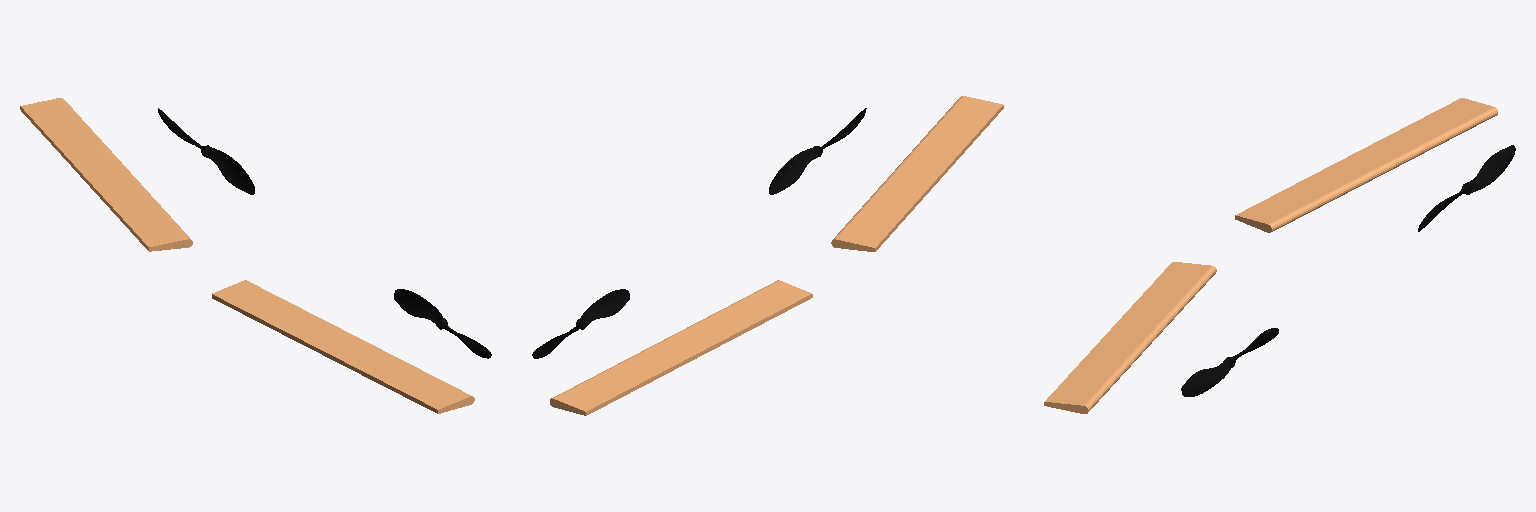
URDF robot description (DeltaWing):
<?xml version="1.0" encoding="utf-8"?>
<!-- This URDF was automatically created by SolidWorks to URDF Exporter! Originally created by [author] ([email redacted]) 
     Commit Version: 1.6.0-4-g7f85cfe  Build Version: 1.6.7995.38578
     For more information, please see http://wiki.ros.org/sw_urdf_exporter -->
     <!-- Additional modifications by [author] [author] -->
<robot
  name="DeltaWing">

  <material name="Brown">
     <color rgba="0.33 0.21 0.04 1"/>
  </material>

  <material name="Grey">
    <color rgba=".3 .3 .3 1"/>
   </material>

  <link
    name="base_link">
    <inertial>
      <origin
        xyz="-0.0952036209787758 7.78125513600558E-11 0.00197473007512181"
        rpy="0 0 0" />
      <mass
        value="0.296981329335048" />
      <inertia
        ixx="0.00806559842793603"
        ixy="-9.41934501552741E-14"
        ixz="5.49054252463097E-10"
        iyy="0.00147659261617276"
        iyz="-2.12387797879751E-09"
        izz="0.00928812511950579" />
    </inertial>
    <visual>
      <origin
        xyz="0 0 0"
        rpy="0 0 0" />
      <geometry>
        <mesh
          filename="package://DeltaWingModel/meshes/base_link.obj" />
      </geometry>
      <material
        name="Grey">
        <!-- <color
          rgba="0.968627450980392 0.87843137254902 0.6 1" /> -->
      </material>
    </visual>
    <collision>
      <origin
        xyz="0 0 0"
        rpy="0 0 0" />
      <geometry>
        <mesh
          filename="package://DeltaWingModel/meshes/base_link.obj" />
      </geometry>
    </collision>
  </link>
  <link
    name="right_motor">
    <inertial>
      <origin
        xyz="-1.0218294876907E-08 -6.00144618685593E-09 0.00181141041634729"
        rpy="0 0 0" />
      <mass
        value="0.00359973592304301" />
      <inertia
        ixx="9.02360838417436E-08"
        ixy="1.17837997236154E-07"
        ixz="-1.90562919430233E-14"
        iyy="9.42212831802528E-06"
        iyz="-1.21143734797756E-13"
        izz="9.47988709060552E-06" />
    </inertial>
    <visual>
      <origin
        xyz="0 0 0"
        rpy="0 0 0" />
      <geometry>
        <mesh
          filename="package://DeltaWingModel/meshes/right_motor.obj" />
      </geometry>
      <material
        name="">
        <color
          rgba="0.0980392156862745 0.0980392156862745 0.0980392156862745 1" />
      </material>
    </visual>
    <collision>
      <origin
        xyz="0 0 0"
        rpy="0 0 0" />
      <geometry>
        <mesh
          filename="package://DeltaWingModel/meshes/right_motor.obj" />
      </geometry>
    </collision>
  </link>
  <joint
    name="right_motor_joint"
    type="revolute">
    <origin
      xyz="-0.013011 0.25 0"
      rpy="1.5708 0 1.5708" />
    <parent
      link="base_link" />
    <child
      link="right_motor" />
    <axis
      xyz="0 0 1" />
    <!-- <limit
      lower="0"
      upper="0"
      effort="0"
      velocity="0" /> -->
  </joint>
  <link
    name="left_motor">
    <inertial>
      <origin
        xyz="-4.73083400231999E-09 -1.5982328578194E-08 0.00181295979349896"
        rpy="0 0 0" />
      <mass
        value="0.0035962732627869" />
      <inertia
        ixx="9.01777971251138E-08"
        ixy="-1.17015369968996E-07"
        ixz="4.72219526573555E-14"
        iyy="9.40216890545166E-06"
        iyz="-8.94212671917933E-14"
        izz="9.45986253030714E-06" />
    </inertial>
    <visual>
      <origin
        xyz="0 0 0"
        rpy="0 0 0" />
      <geometry>
        <mesh
          filename="package://DeltaWingModel/meshes/left_motor.obj" />
      </geometry>
      <material
        name="">
        <color
          rgba="0.0980392156862745 0.0980392156862745 0.0980392156862745 1" />
      </material>
    </visual>
    <collision>
      <origin
        xyz="0 0 0"
        rpy="0 0 0" />
      <geometry>
        <mesh
          filename="package://DeltaWingModel/meshes/left_motor.obj" />
      </geometry>
    </collision>
  </link>
  <joint
    name="left_motor_joint"
    type="revolute">
    <origin
      xyz="-0.013 -0.25 0"
      rpy="1.5708 0 1.5708" />
    <parent
      link="base_link" />
    <child
      link="left_motor" />
    <axis
      xyz="0 0 1" />
    <!-- <limit
      lower="0"
      upper="0"
      effort="0"
      velocity="0" /> -->
  </joint>
  <link
    name="right_elevon">
    <inertial>
      <origin
        xyz="-0.0206295101987303 0.180271196118253 0.00114188761501559"
        rpy="0 -.06 0" />
      <mass
        value="0.00429914039301486" />
      <inertia
        ixx="5.174539257616E-05"
        ixy="8.39192922141699E-07"
        ixz="5.15080918137687E-08"
        iyy="8.59467191797982E-07"
        iyz="8.49222569650825E-10"
        izz="5.2552381577933E-05" />
    </inertial>
    <visual>
      <origin
        xyz="0 0 0"
        rpy="0 -.06 0" />
      <geometry>
        <mesh
          filename="package://DeltaWingModel/meshes/right_elevon.obj" />
      </geometry>
      <material
        name="">
        <color
          rgba="0.988235294117647 0.737254901960784 0.517647058823529 1" />
      </material>
    </visual>
    <collision>
      <origin
        xyz="0 0 0"
        rpy="0 -.06 0" />
      <geometry>
        <mesh
          filename="package://DeltaWingModel/meshes/right_elevon.obj" />
      </geometry>
    </collision>
  </link>
  <joint
    name="right_elevon_joint"
    type="revolute">
    <origin
      xyz="-0.14351 0.068516 0"
      rpy="0 0 -0.17453" />
    <parent
      link="base_link" />
    <child
      link="right_elevon" />
    <axis
      xyz="0.016485 -0.99986 0" />
    <limit
      lower="-1.571"
      upper="1.571"
      effort="0"
      velocity="0" />
  </joint>
  <link
    name="left_elevon">
    <inertial>
      <origin
        xyz="-0.0196636403404296 -0.175581705344098 -0.00564668601966695"
        rpy="0 .32 0" />
      <mass
        value="0.00429914039301486" />
      <inertia
        ixx="5.18235158616008E-05"
        ixy="-8.40480953883799E-07"
        ixz="-2.41892335100736E-07"
        iyy="8.59488427793871E-07"
        iyz="3.9881195973088E-09"
        izz="5.24742370564963E-05" />
    </inertial>
    <visual>
      <origin
        xyz="0 0 0"
        rpy="0 .32 0" />
      <geometry>
        <mesh
          filename="package://DeltaWingModel/meshes/left_elevon.obj" />
      </geometry>
      <material
        name="">
        <color
          rgba="0.988235294117647 0.737254901960784 0.517647058823529 1" />
      </material>
    </visual>
    <collision>
      <origin
        xyz="0 0 0"
        rpy="0 .32 0" />
      <geometry>
        <mesh
          filename="package://DeltaWingModel/meshes/left_elevon.obj" />
      </geometry>
    </collision>
  </link>
  <joint
    name="left_elevon_joint"
    type="revolute">
    <origin
      xyz="-0.14277 -0.073162 0"
      rpy="0 0 0.17453" />
    <parent
      link="base_link" />
    <child
      link="left_elevon" />
    <axis
      xyz="-0.016485 -0.99986 0" />
    <limit
      lower="-1.571"
      upper="1.571"
      effort="0"
      velocity="0" />
  </joint>
</robot>

--- Facts derived from the render (not from the file) ---
3 views of the same robot in one strip: view 1: azimuth 30°, elevation 25°; view 2: azimuth 150°, elevation 25°; view 3: azimuth 330°, elevation 25° (orthographic).
Robot: DeltaWing — 5 links, 4 joints (4 revolute); root link base_link; default pose: all joints at 0.
Visible links, largest first — view 1: left_elevon, right_elevon, right_motor, left_motor; view 2: right_elevon, left_elevon, left_motor, right_motor; view 3: right_elevon, left_elevon, right_motor, left_motor.
Boxes of the visible links, bbox=[...] form: left_elevon: bbox=[212, 280, 474, 413]; right_elevon: bbox=[20, 98, 192, 251]; right_motor: bbox=[158, 108, 254, 194]; left_motor: bbox=[394, 289, 491, 358]; right_elevon: bbox=[550, 280, 812, 415]; left_elevon: bbox=[831, 96, 1003, 251]; left_motor: bbox=[769, 108, 866, 194]; right_motor: bbox=[532, 289, 629, 358]; right_elevon: bbox=[1235, 98, 1497, 232]; left_elevon: bbox=[1044, 262, 1216, 413]; right_motor: bbox=[1418, 145, 1515, 231]; left_motor: bbox=[1181, 328, 1278, 396].
Size in the robot's own frame: 0.183 by 0.8831 by 0.0249 metres.
Meshes: 5 distinct files referenced, 4 mesh visuals loaded (4 OBJ); not drawn: 1 (reference not matched to a file when rendering).
